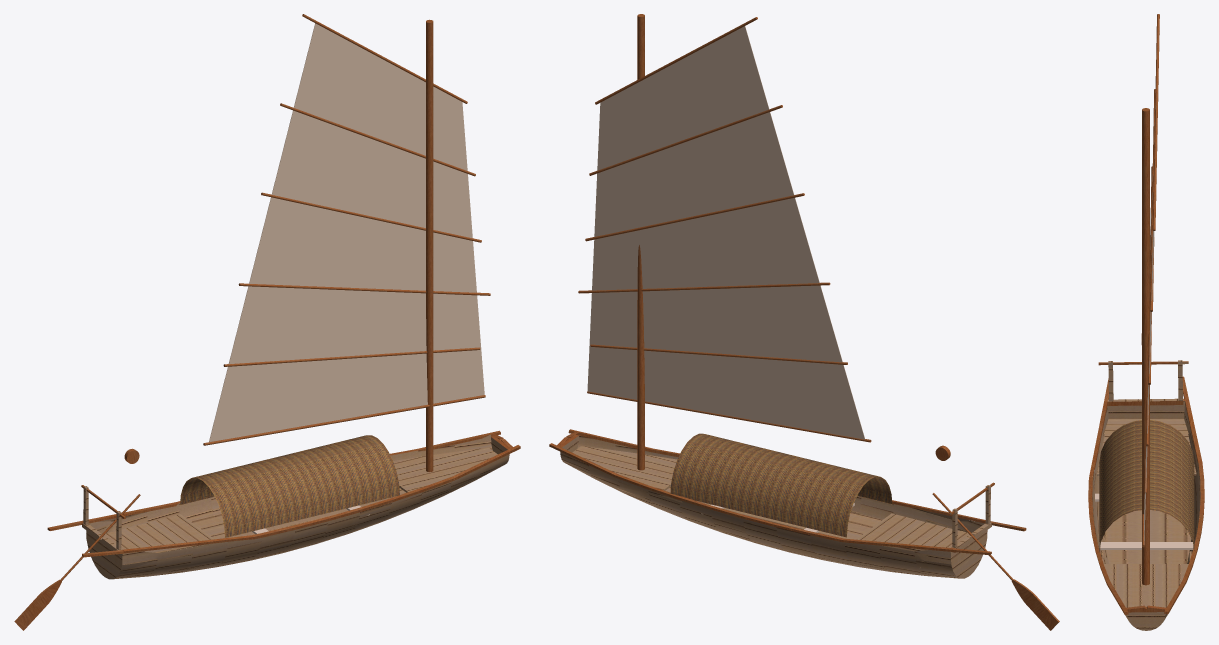
The model's file is sampan.glb.
The picture shows the model from 3 angles, left to right: view 1: azimuth 30°, elevation 25°; view 2: azimuth 150°, elevation 25°; view 3: azimuth 270°, elevation 25°; orthographic projection. The views are drawn at different scales.
Parts seen in each view (by area): view 1: Geom3D (×13); view 2: Geom3D (×11); view 3: Geom3D (×14).
Boxes of the visible parts, x1,y1,x2,y2 form: Geom3D (×13): (14,19,520,630); Geom3D (×11): (549,14,1059,630); Geom3D (×14): (1088,14,1204,630).
Bounding box in the file's own units: 11.81 × 12.35 × 2.28.
Materials: 15 (13 with a texture image).
